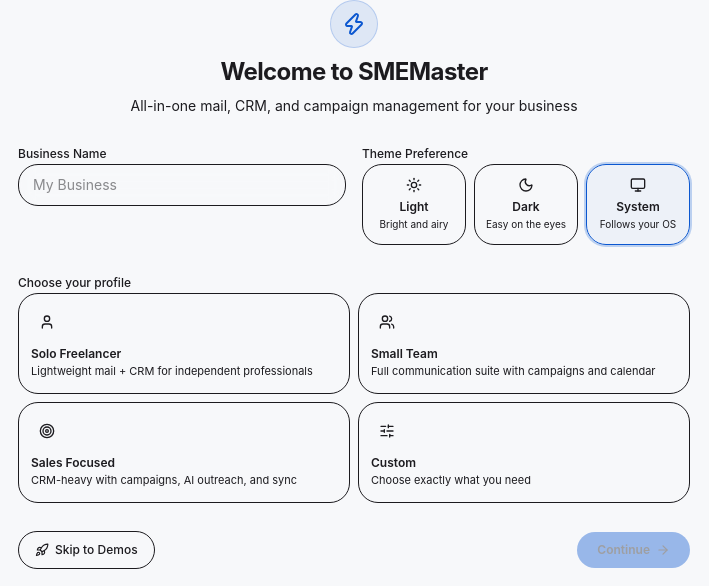
Test: WelcomeStep › enables Continue after selecting a preset
Click the text "Solo Freelancer" at (76, 354), box [31,346,121,361]
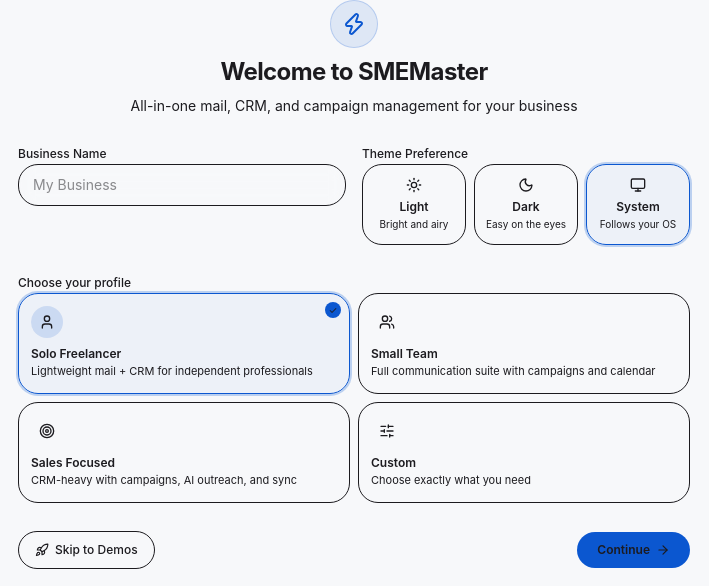
Check: the button "Continue" is enabled, box [577,532,690,568]
